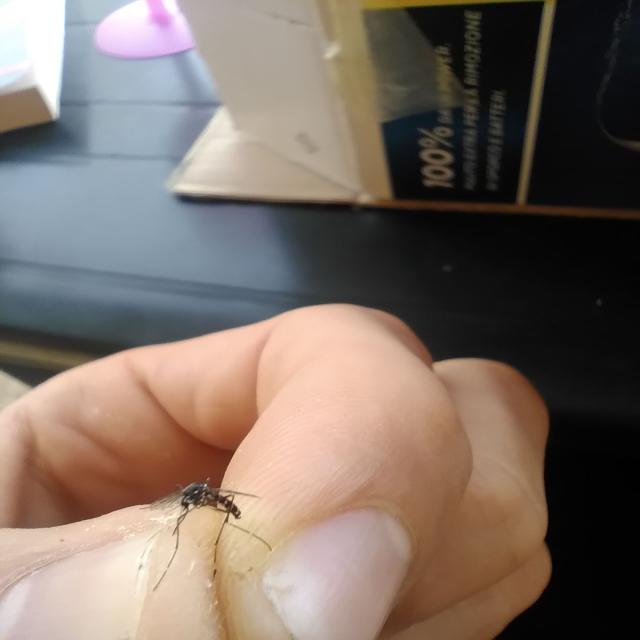albopictus: (131, 463, 275, 596)
